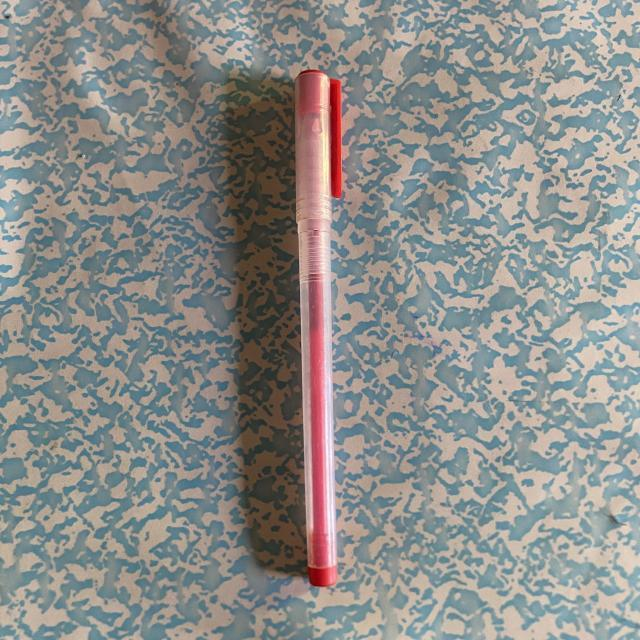pen: (280, 59, 354, 596)
